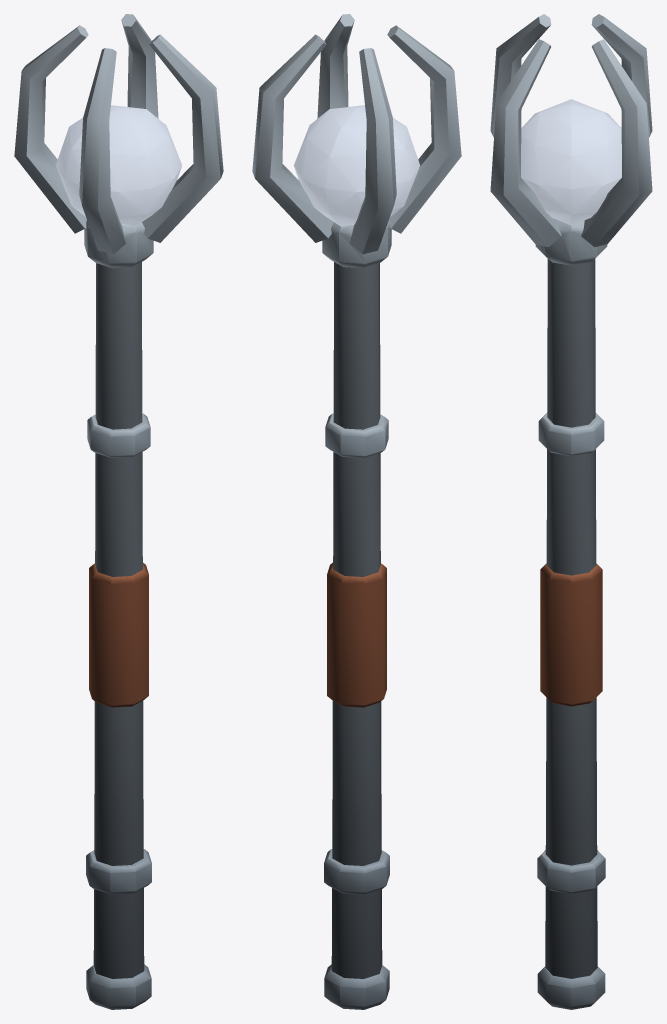
File: staff_iron.glb
The picture shows the model from 3 angles, left to right: view 1: azimuth 30°, elevation 25°; view 2: azimuth 150°, elevation 25°; view 3: azimuth 270°, elevation 25°; orthographic projection.
Visible parts, largest first — view 1: Item; view 2: Item; view 3: Item.
Part boxes in pixels (box(x1,y1,x2,y2)): Item: box(14, 14, 223, 1009); Item: box(252, 14, 461, 1009); Item: box(490, 14, 652, 1009).
Bounding box in the file's own units: 0.3876 × 2.53 × 0.3828.
3 materials, 3 textured.
